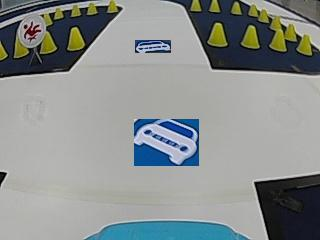cone: (208, 21, 228, 47), (66, 26, 85, 51), (241, 24, 259, 49), (269, 30, 286, 51), (40, 33, 56, 54), (296, 33, 311, 55), (13, 38, 27, 58), (284, 22, 295, 40), (230, 1, 242, 15), (258, 7, 268, 23), (86, 2, 98, 15), (208, 0, 220, 13), (53, 6, 64, 20), (106, 0, 117, 13), (70, 3, 80, 17), (190, 0, 201, 12), (248, 3, 257, 17), (0, 41, 6, 61), (43, 13, 52, 25)
tumble: (20, 16, 44, 43)
